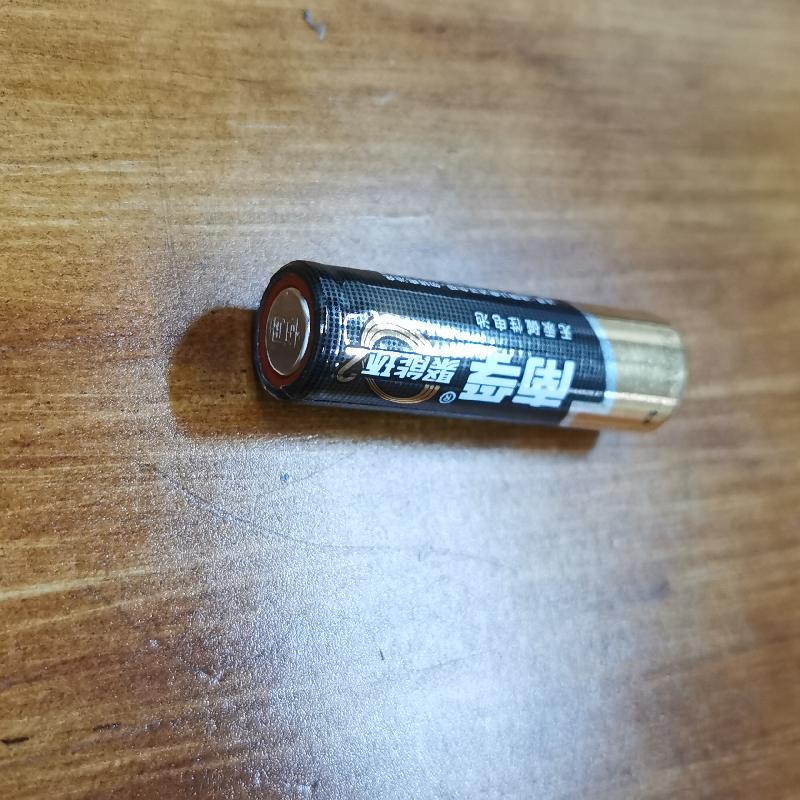battery: (244, 255, 694, 440)
